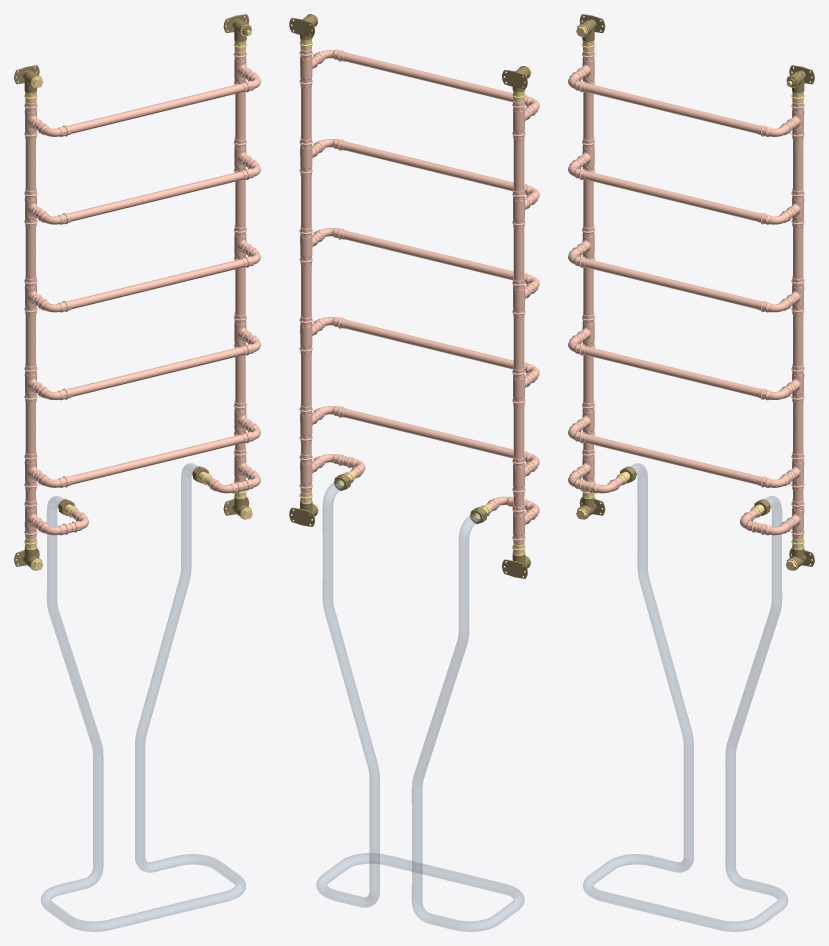
Rendered from escala.glb.
The picture shows the model from 3 angles, left to right: view 1: azimuth 30°, elevation 25°; view 2: azimuth 150°, elevation 25°; view 3: azimuth 330°, elevation 25°; orthographic projection.
Parts seen in each view (by area): view 1: Rib.3, Pad.1, Pad.027, Pad.007, Pad.017, Pad.037, Pad.015, Pad.045, Pad.035, Pad.025, Pad.033, Pad.043 (+2 smaller); view 2: Rib.3, Pad.017, Pad.027, Pad.037, Pad.007, Pad.1, Pad.015, Pad.025, Pad.035, Pad.045, Pad.013, Pad.023 (+18 smaller); view 3: Rib.3, Pad.1, Pad.007, Pad.017, Pad.027, Pad.037, Pad.013, Pad.043, Pad.033, Pad.023, Pad.035, Pad.045 (+2 smaller).
Part boxes in pixels (left/top/right/bottom): Rib.3: left=41, top=463, right=245, bottom=931; Pad.1: left=69, top=83, right=244, bottom=133; Pad.027: left=69, top=346, right=244, bottom=396; Pad.007: left=69, top=171, right=244, bottom=221; Pad.017: left=69, top=259, right=244, bottom=309; Pad.037: left=69, top=434, right=244, bottom=484; Pad.015: left=25, top=139, right=35, bottom=191; Pad.045: left=25, top=402, right=35, bottom=454; Pad.035: left=25, top=315, right=35, bottom=366; Pad.025: left=25, top=227, right=35, bottom=278; Pad.033: left=235, top=267, right=245, bottom=315; Pad.043: left=235, top=355, right=245, bottom=403; Rib.3: left=316, top=479, right=524, bottom=931; Pad.017: left=343, top=230, right=513, bottom=280; Pad.027: left=343, top=320, right=513, bottom=369; Pad.037: left=343, top=409, right=513, bottom=458; Pad.007: left=343, top=141, right=513, bottom=191; Pad.1: left=343, top=52, right=513, bottom=102; Pad.015: left=513, top=139, right=524, bottom=191; Pad.025: left=513, top=228, right=524, bottom=280; Pad.035: left=513, top=317, right=524, bottom=369; Pad.045: left=513, top=406, right=524, bottom=458; Pad.013: left=301, top=87, right=311, bottom=139; Pad.023: left=301, top=176, right=311, bottom=228; Rib.3: left=583, top=463, right=787, bottom=931; Pad.1: left=584, top=83, right=759, bottom=133; Pad.007: left=584, top=171, right=759, bottom=221; Pad.017: left=584, top=259, right=759, bottom=309; Pad.027: left=584, top=347, right=759, bottom=396; Pad.037: left=584, top=434, right=759, bottom=484; Pad.013: left=793, top=139, right=803, bottom=191; Pad.043: left=793, top=402, right=803, bottom=454; Pad.033: left=793, top=315, right=803, bottom=366; Pad.023: left=793, top=227, right=803, bottom=278; Pad.035: left=583, top=267, right=593, bottom=315; Pad.045: left=583, top=355, right=593, bottom=403.
Size of the model in its own units: 0.5598 by 1.93 by 0.222.
